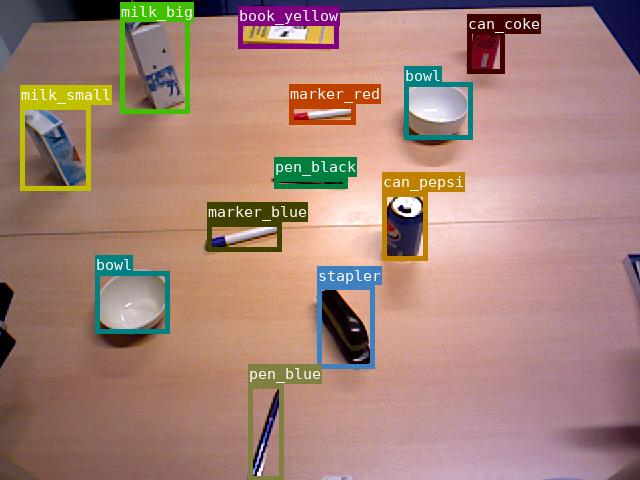book_yellow: (238, 6, 338, 48)
bowl: (95, 271, 169, 333), (404, 82, 472, 139)
can_coke: (467, 14, 504, 73)
can_pepsi: (382, 192, 427, 260)
marker_blue: (207, 222, 281, 251)
marker_red: (289, 104, 355, 124)
milk_big: (120, 2, 189, 113)
milk_small: (20, 105, 90, 190)
pen_black: (274, 177, 347, 188)
pen_blue: (248, 384, 283, 480)
stapler: (317, 285, 374, 368)
